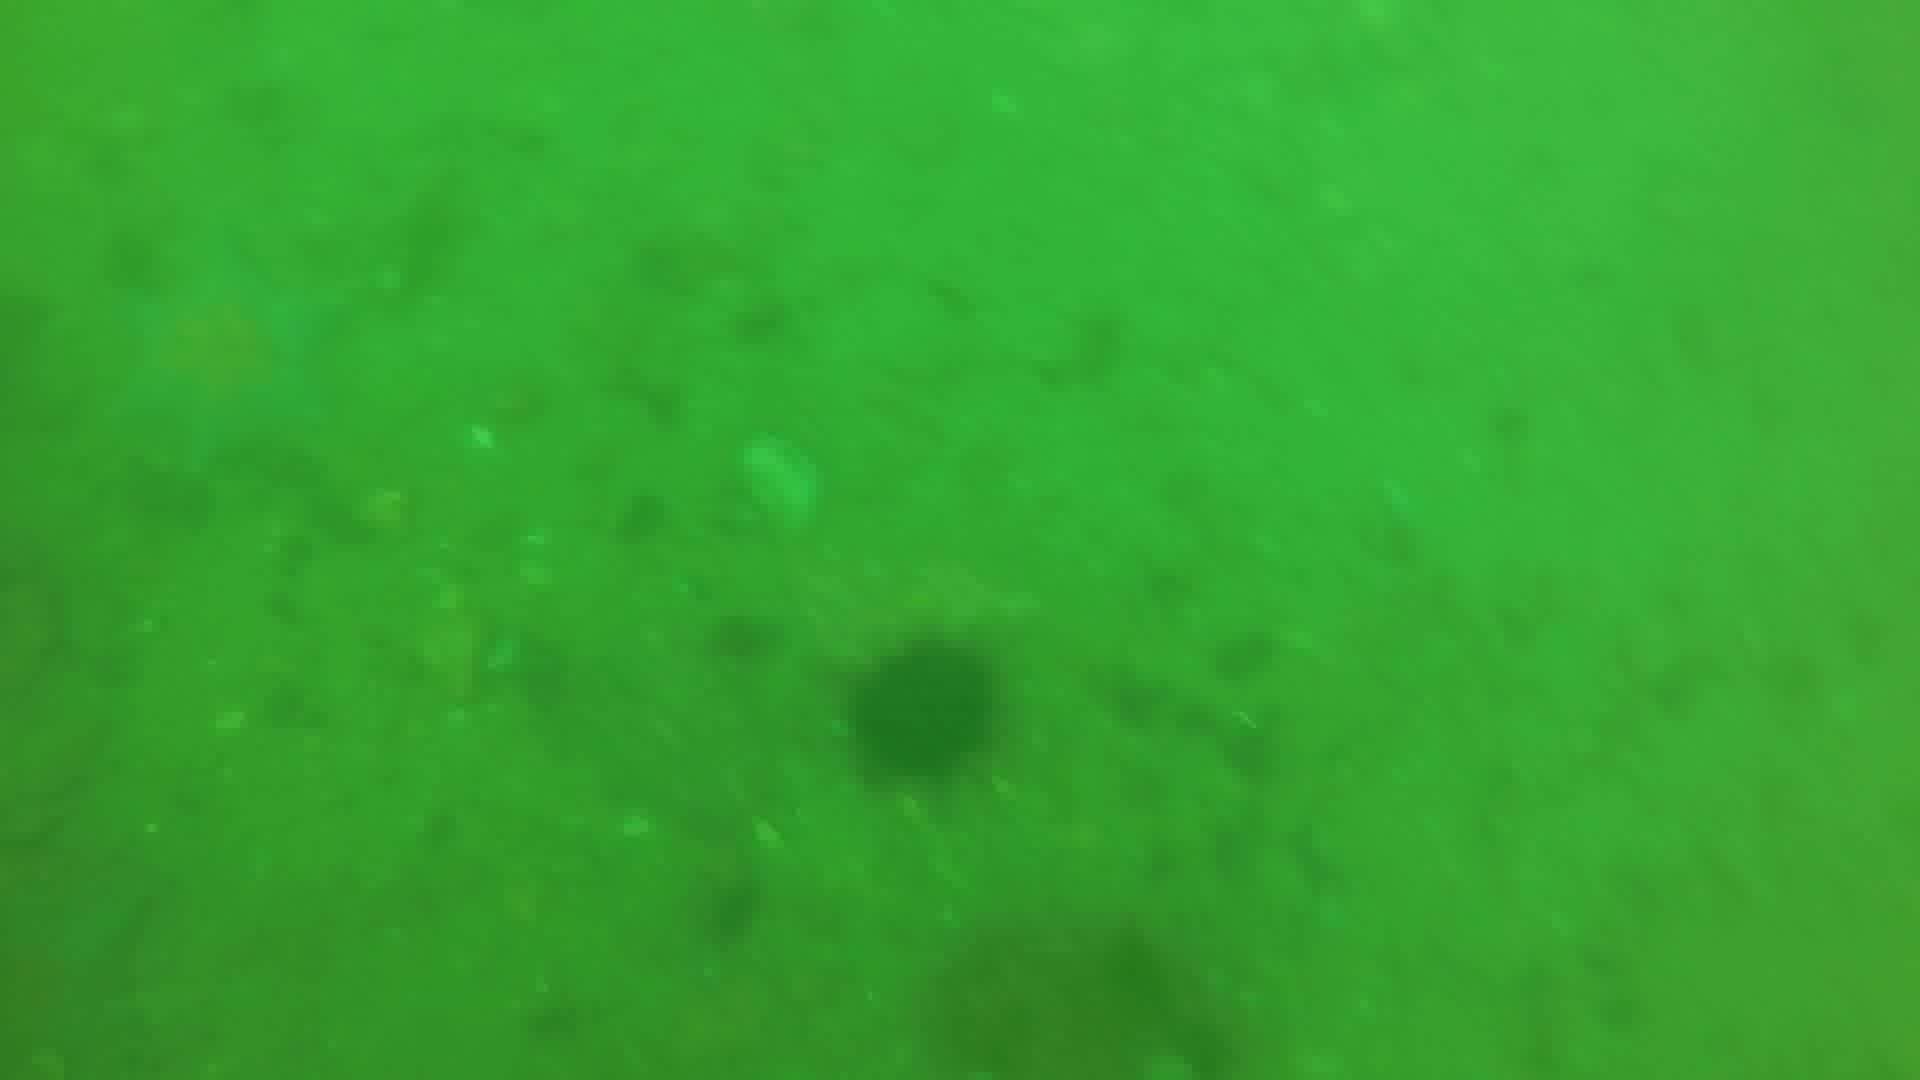echinus: (843, 636, 1004, 789), (702, 608, 781, 671)
starfish: (104, 247, 353, 476)
